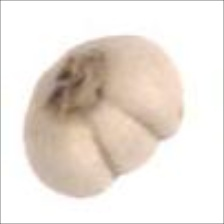L5: (87, 97, 164, 181), (38, 46, 112, 118)
L6: (22, 34, 185, 200)
